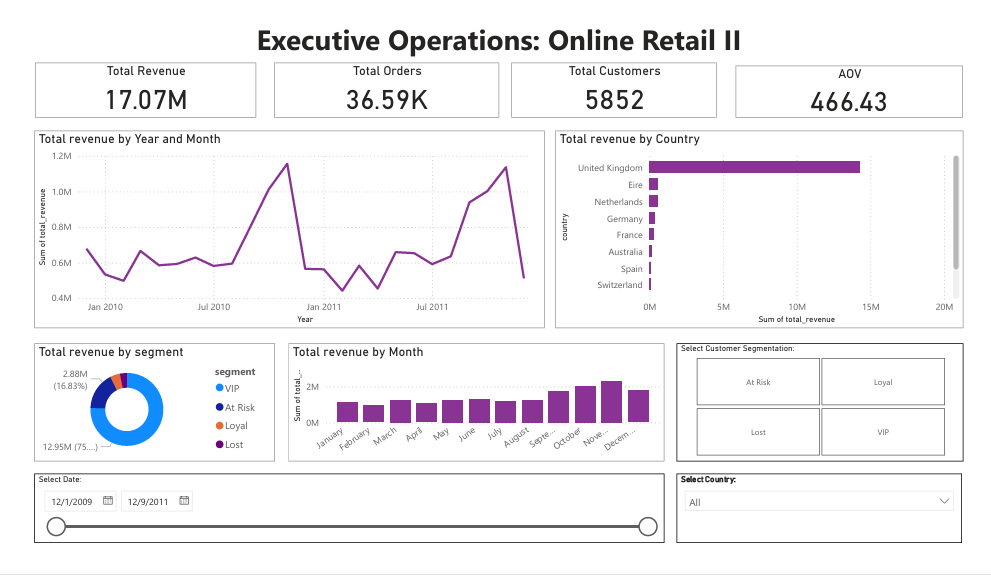

The page's visual inventory and layout, read from the dashboard file:
{"tool":"powerbi","page":{"name":"Page 1","canvas":[1280,720],"ordinal":0},"visuals":[{"type":"textbox","box":[9.1,0,1270.9,64],"z":0},{"type":"card","title":"Total Revenue","fields":{"Values":["Sum(public fct_orders.total_revenue)"]},"box":[23.8,62.3,296.7,73.2],"z":1000},{"type":"card","title":"Total Orders","fields":{"Values":["Count(public fct_orders.invoice_id)"]},"box":[344.3,62.3,300.3,73.2],"z":2000},{"type":"card","title":"Total Customers","fields":{"Values":["Count(public fct_orders.customer_id)"]},"box":[661.1,62.3,274.7,73.2],"z":3000},{"type":"card","title":"AOV","fields":{"Values":["public dim_customers.AOV"]},"box":[961.4,65.9,304,69.6],"z":4000},{"type":"lineChart","title":"Total revenue by Year and Month","fields":{"Y":["Sum(public fct_orders.total_revenue)"],"Category":["public fct_orders.invoice_date.Variation.Date Hierarchy.Year","public fct_orders.invoice_date.Variation.Date Hierarchy.Month"]},"box":[23.1,152.8,682.8,263.9],"z":5000},{"type":"clusteredBarChart","title":"Total revenue by Country","fields":{"Category":["public dim_customers.country"],"Y":["Sum(public fct_orders.total_revenue)"]},"box":[719.9,152.8,546.3,263.9],"z":6000},{"type":"donutChart","title":"Total revenue by segment","fields":{"Category":["public dim_customers.segment"],"Y":["Sum(public fct_orders.total_revenue)"]},"box":[23.1,437.5,321.7,157.4],"z":7000},{"type":"clusteredColumnChart","title":"Total revenue by Month","fields":{"Category":["public fct_orders.invoice_date.Variation.Date Hierarchy.Month"],"Y":["Sum(public fct_orders.total_revenue)"]},"box":[363.4,437.5,502.3,157.4],"z":8000},{"type":"slicer","title":"Select Country:","fields":{"Values":["public dim_customers.country"]},"box":[881.9,611.1,381.9,92.6],"z":9000},{"type":"slicer","title":"Select Date:","fields":{"Values":["public fct_orders.invoice_date"]},"box":[23.1,611.1,842.5,92.6],"z":10000},{"type":"slicer","title":"Select Customer Segmentation:","fields":{"Values":["public dim_customers.segment"]},"box":[881.9,437.5,384.2,157.4],"z":11000}]}

Visuals, with their boxes on the page's 1280x720 design canvas (x1, y1, x2, y2). These are canvas units, not pixel positions in the 991x575 screenshot, which may show the page scaled, cropped or inside an application window:
textbox: BBox(9, 0, 1280, 64)
"Total Revenue" card: BBox(24, 62, 320, 136)
"Total Orders" card: BBox(344, 62, 645, 136)
"Total Customers" card: BBox(661, 62, 936, 136)
"AOV" card: BBox(961, 66, 1265, 136)
"Total revenue by Year and Month" lineChart: BBox(23, 153, 706, 417)
"Total revenue by Country" clusteredBarChart: BBox(720, 153, 1266, 417)
"Total revenue by segment" donutChart: BBox(23, 438, 345, 595)
"Total revenue by Month" clusteredColumnChart: BBox(363, 438, 866, 595)
"Select Country:" slicer: BBox(882, 611, 1264, 704)
"Select Date:" slicer: BBox(23, 611, 866, 704)
"Select Customer Segmentation:" slicer: BBox(882, 438, 1266, 595)
